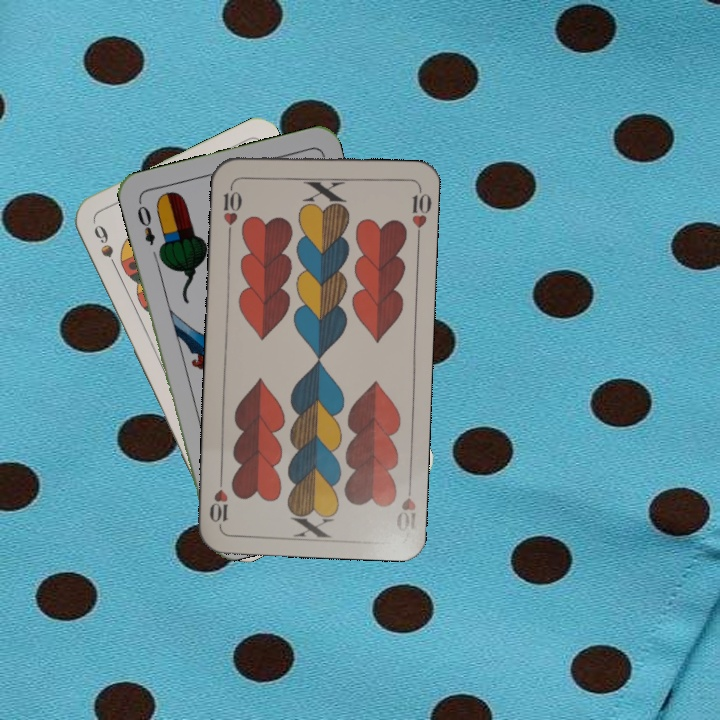EO: (133, 197, 158, 248)
H10: (392, 476, 418, 534), (219, 179, 244, 238)
S9: (90, 220, 122, 276)
